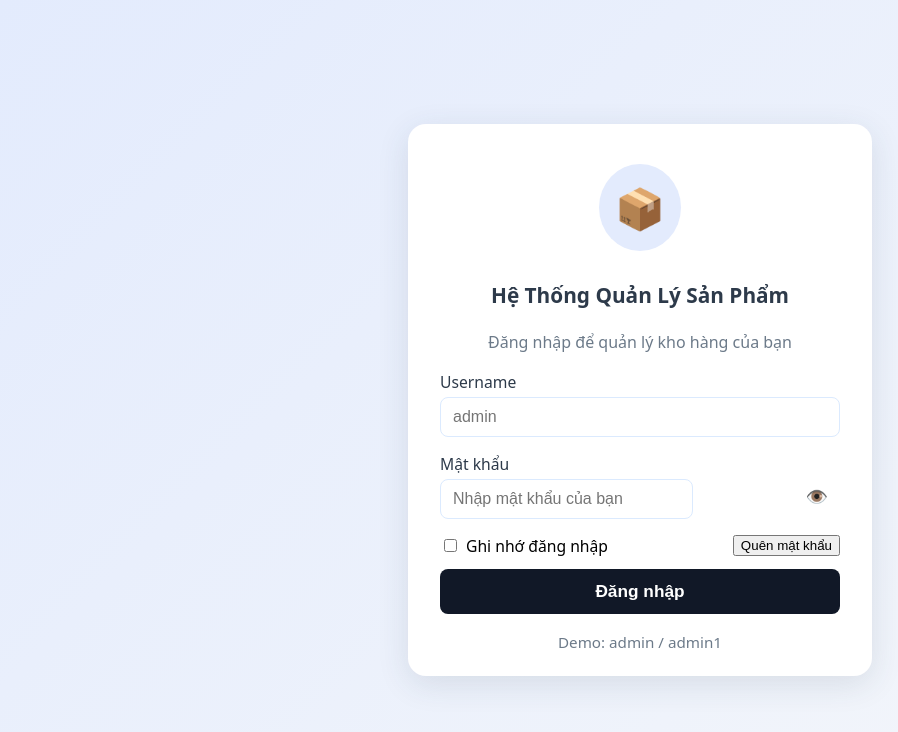
Test: Login Component Mock Tests › Test with Mocked Failed Responses › handles network error gracefully
The width and height of the screenshot is (898, 732).
Type "test" into the field labelled "Username" at (640, 417), box [440, 397, 840, 437]
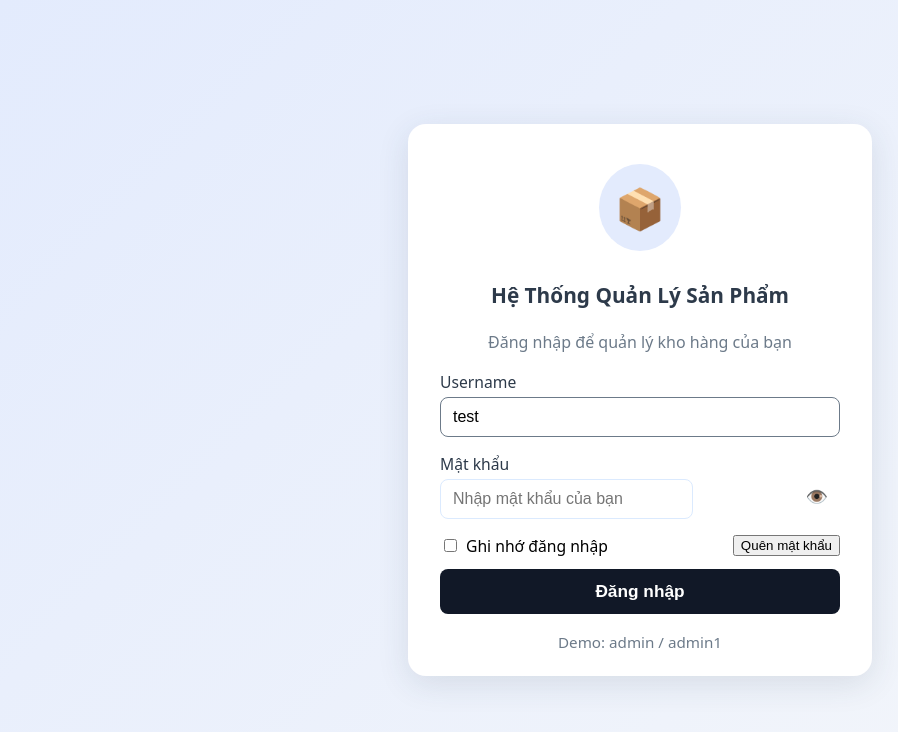
Type "Test123" into the password field labelled "Mật khẩu" at (566, 499), box [440, 479, 693, 519]
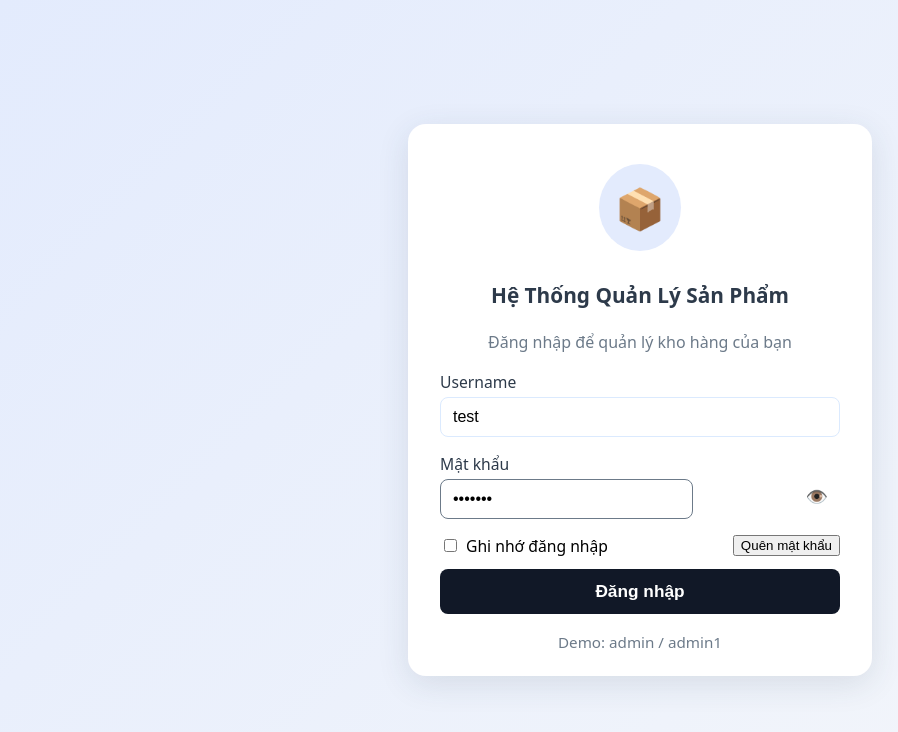
Click the button "Đăng nhập" at (640, 591), box [440, 569, 840, 614]
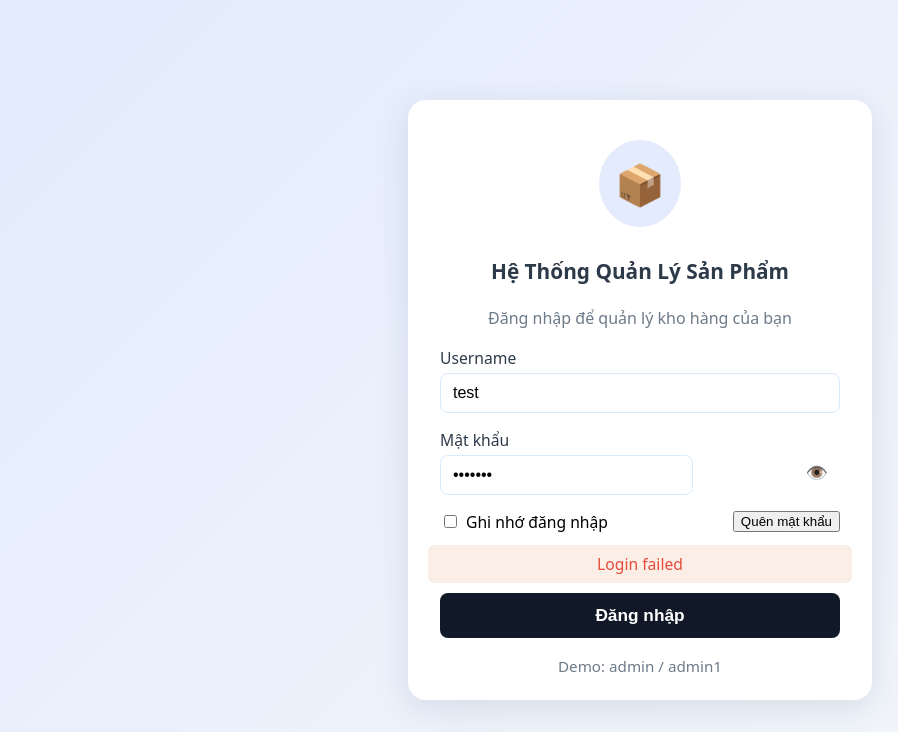
expect the text "Login failed" is shown: met, box [428, 545, 852, 583]
